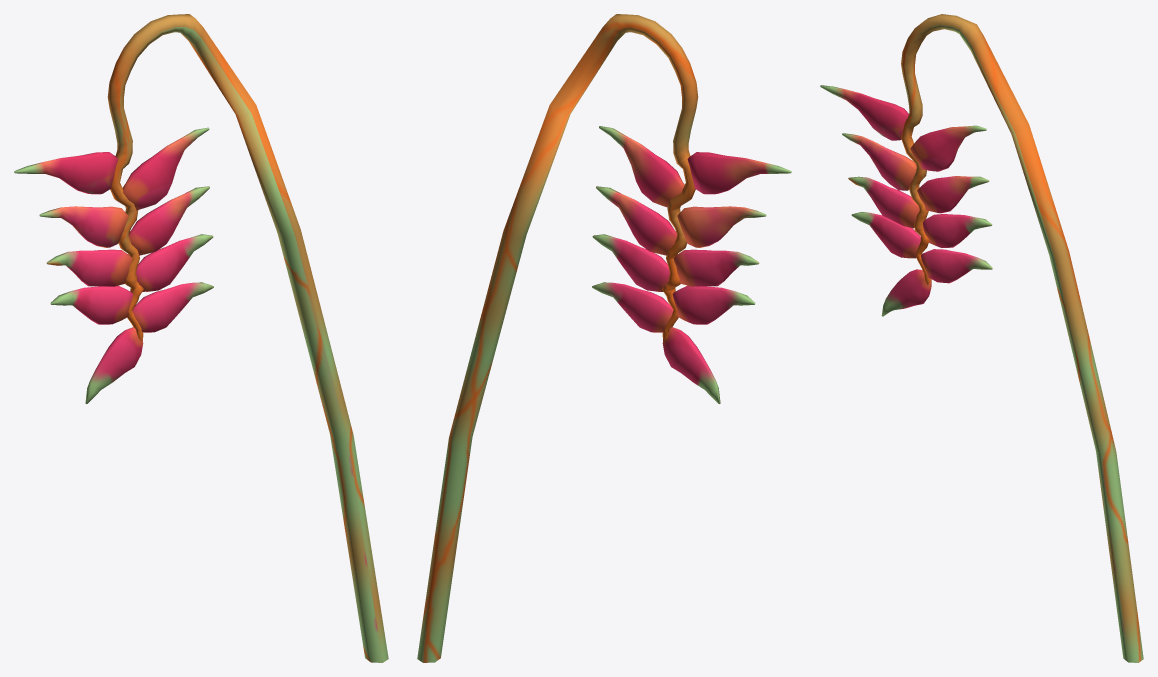
File: PlantaExotica.fbx
3 renders of one model, left to right at view 1: azimuth 30°, elevation 25°; view 2: azimuth 150°, elevation 25°; view 3: azimuth 330°, elevation 25°, orthographic. The views are drawn at different scales.
Visible parts, largest first — view 1: PlantaExotica; view 2: PlantaExotica; view 3: PlantaExotica.
Part boxes in pixels (x1,y1,x2,y2): PlantaExotica: [14, 14, 388, 662]; PlantaExotica: [417, 14, 791, 662]; PlantaExotica: [820, 14, 1143, 662].
Bounding box in the file's own units: 1.62 × 2.89 × 0.104.
